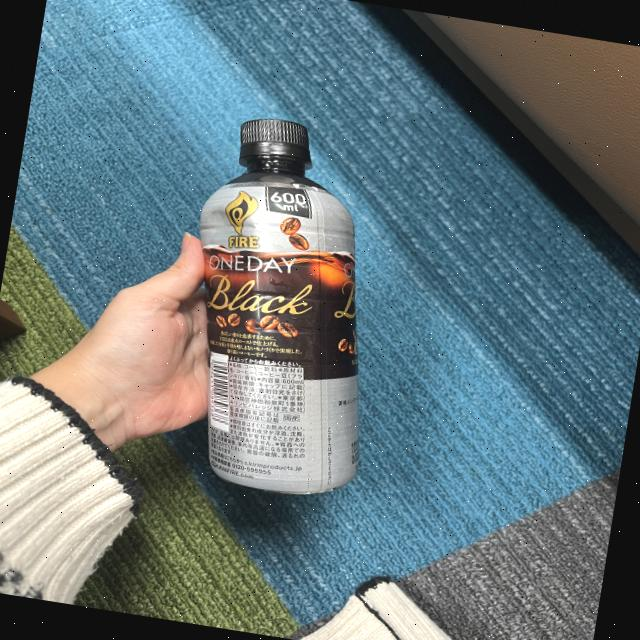coffee-black: (164, 112, 415, 512)
